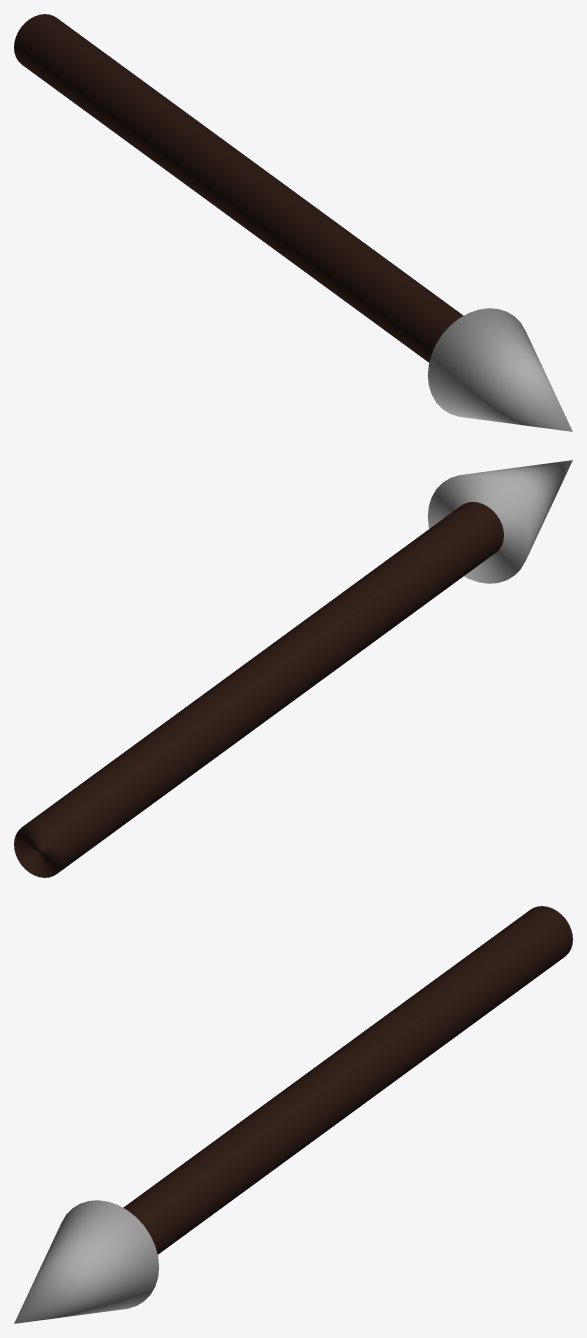
The model's file is Pfeil.fbx.
The picture shows the model from 3 angles, top to bottom: view 1: azimuth 30°, elevation 25°; view 2: azimuth 150°, elevation 25°; view 3: azimuth 330°, elevation 25°; orthographic projection.
Visible parts, largest first — view 1: Cylinder, Cone; view 2: Cylinder, Cone; view 3: Cylinder, Cone.
Part boxes in pixels (x1,y1,x2,y2): Cylinder: (14,14,463,362); Cone: (427,308,572,431); Cylinder: (14,502,503,877); Cone: (427,460,572,583); Cylinder: (123,906,572,1254); Cone: (14,1200,159,1323).
Bounding box in the file's own units: 35.4 × 35.4 × 322.
